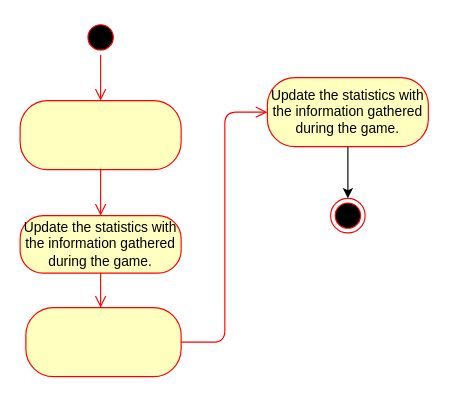
Some shapes in this 449 by 397 pixel diagram are drawn without their labels. The box of each missing label's shape, as (x1, y1, x2, y2) in pixels:
Access each robot's statistics that participated in the game: (19, 99, 181, 170)
Access each team's statistics that participated in the game.: (25, 306, 181, 377)
